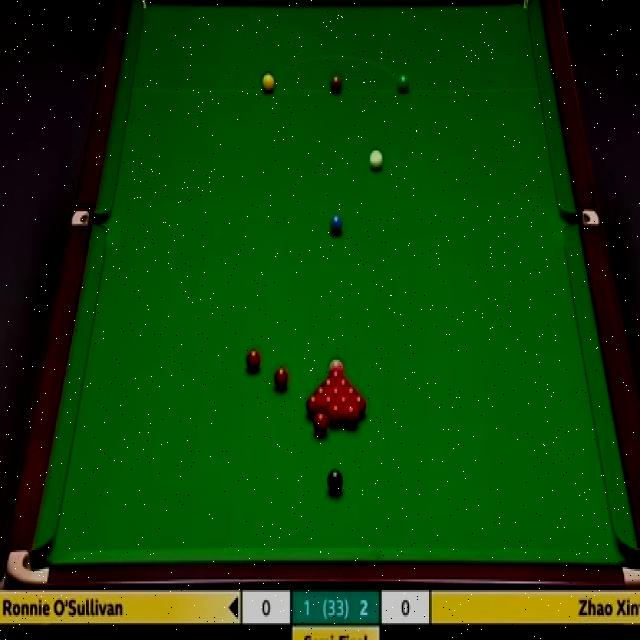black-ball: (326, 469, 344, 494)
blue-ball: (328, 213, 344, 236)
brown-ball: (330, 74, 343, 94)
green-ball: (397, 73, 410, 93)
pink-ball: (329, 357, 345, 371)
red-ball: (273, 367, 289, 394), (245, 348, 261, 374), (344, 404, 359, 429), (327, 404, 343, 427), (313, 412, 328, 436), (306, 396, 322, 417), (352, 395, 367, 417), (312, 385, 331, 397), (323, 396, 335, 413), (343, 386, 360, 396), (319, 378, 337, 387), (336, 378, 352, 388), (336, 395, 351, 405), (328, 371, 344, 379), (330, 387, 344, 396)
white-ball: (368, 150, 384, 175)
yellow-ball: (262, 72, 274, 95)
